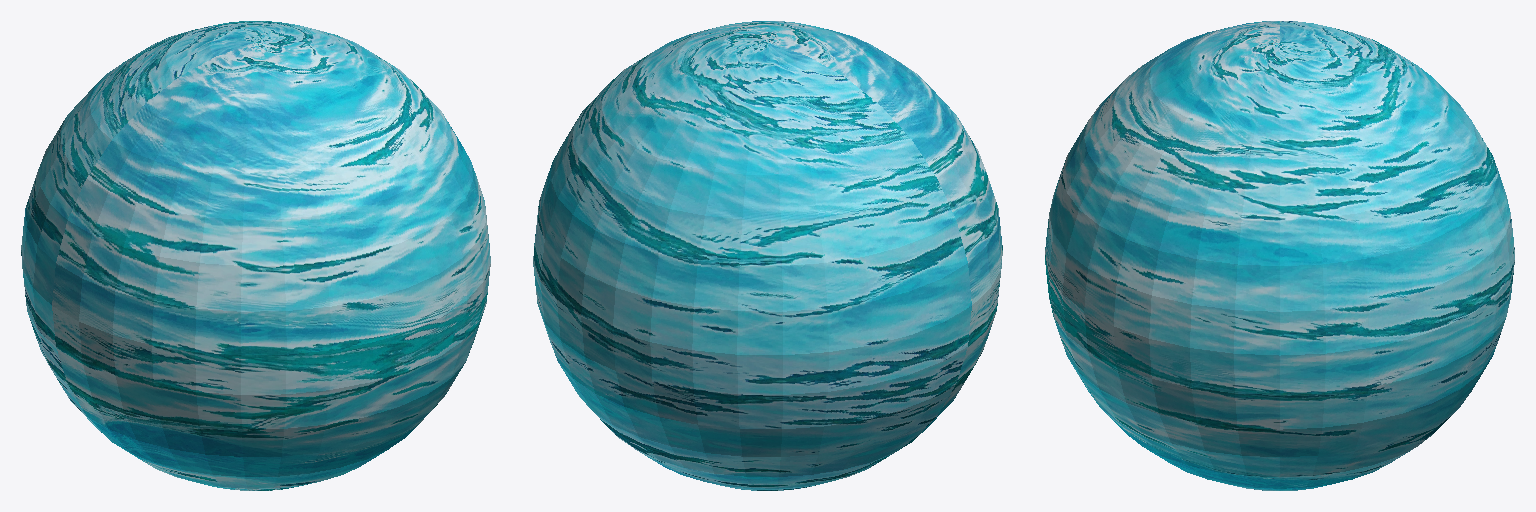
3 views of the same model, side by side, from view 1: azimuth 30°, elevation 25°; view 2: azimuth 150°, elevation 25°; view 3: azimuth 270°, elevation 25° (orthographic).
Parts seen in each view (by area): view 1: Sphere31; view 2: Sphere31; view 3: Sphere31.
Part boxes in pixels (left/top/right/bottom): Sphere31: left=21, top=21, right=490, bottom=490; Sphere31: left=533, top=21, right=1002, bottom=490; Sphere31: left=1045, top=21, right=1514, bottom=490.
Size of the model in its own units: 2 by 2 by 2.
1 materials, 1 textured.